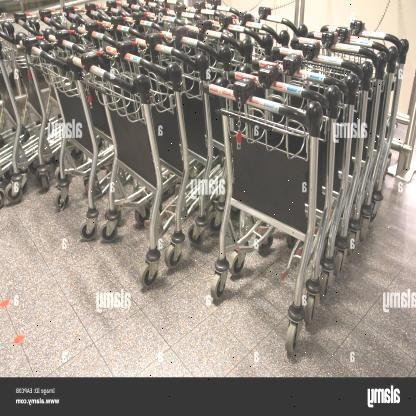airport-trolley: (212, 110, 298, 356), (228, 101, 314, 320), (242, 101, 330, 287), (257, 78, 342, 263), (288, 68, 356, 244), (307, 53, 368, 230), (327, 35, 377, 202), (340, 28, 385, 170)
